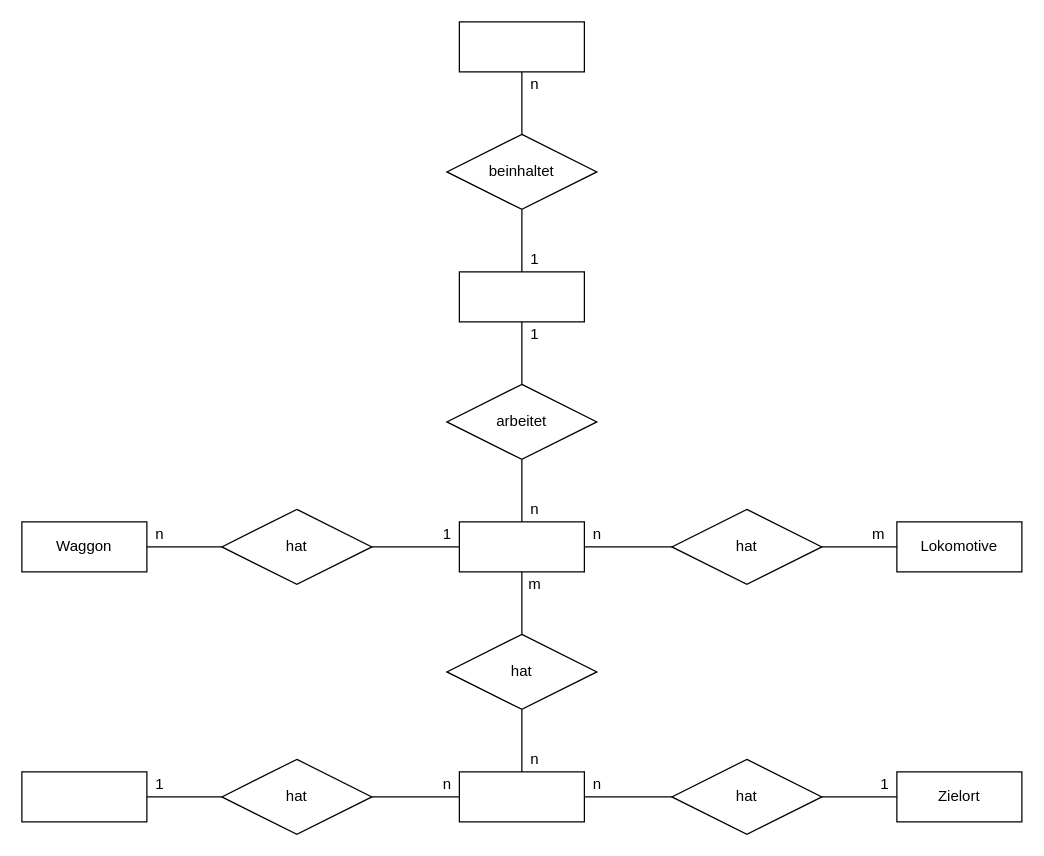
This 1044x856 diagram has some shape labels left out. Here are the shapes that lost their labels. From the top down, the centre of each, then its label:
At [521,46]: "Lokführer".
At [521,296]: "Personal".
At [521,546]: "Zug".
At [84,796]: "Ausgangsort".
At [521,796]: "Fahrt".
